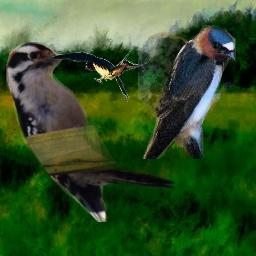Swallow: (138, 25, 236, 159), (50, 47, 158, 103)
Woodpecker: (6, 42, 175, 222)
